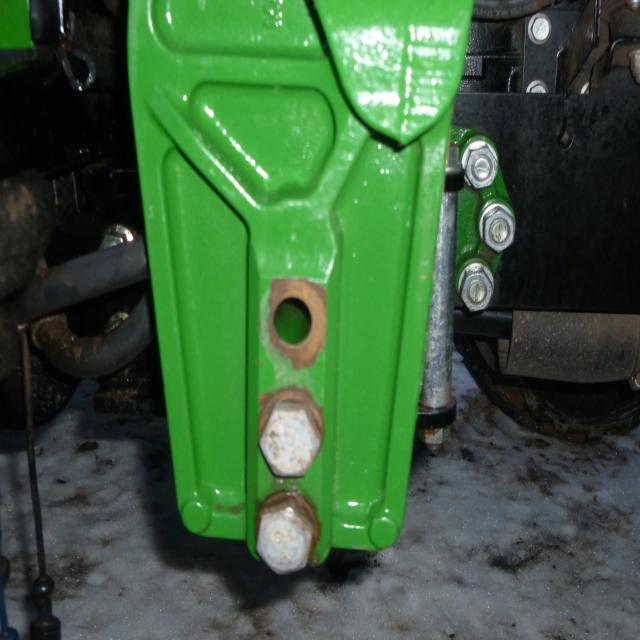Missing bolt: (266, 294, 321, 356)
Regular bolt: (261, 405, 320, 479), (259, 502, 314, 575), (481, 204, 516, 249), (464, 143, 499, 188), (460, 268, 495, 312), (528, 12, 553, 45)
